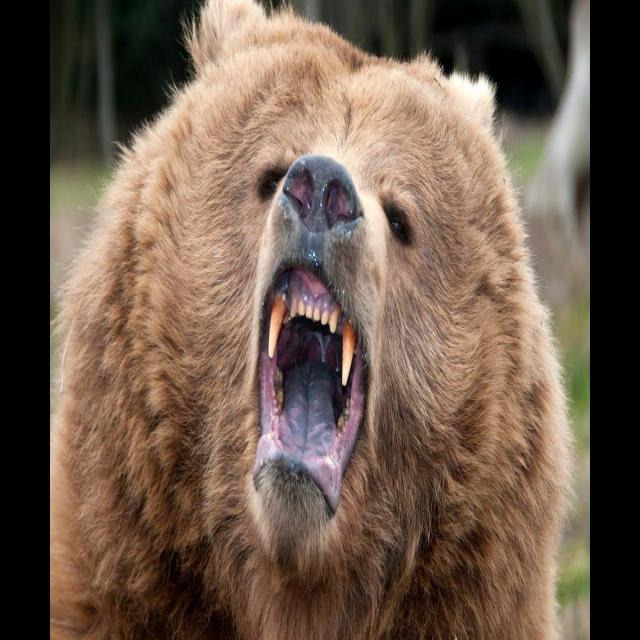Bear: (49, 0, 573, 640)
